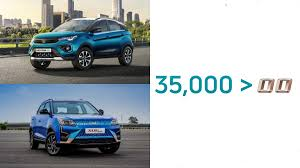Tata Nexon: (25, 15, 134, 73)
